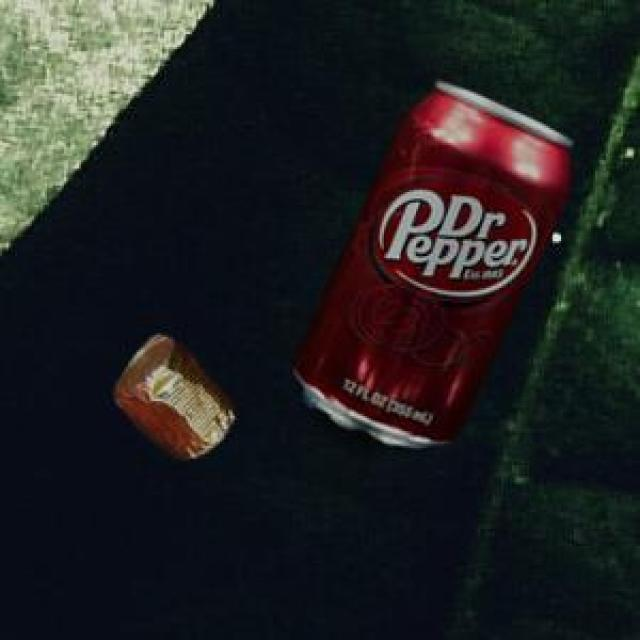Can: (291, 78, 569, 445), (112, 332, 231, 453)
